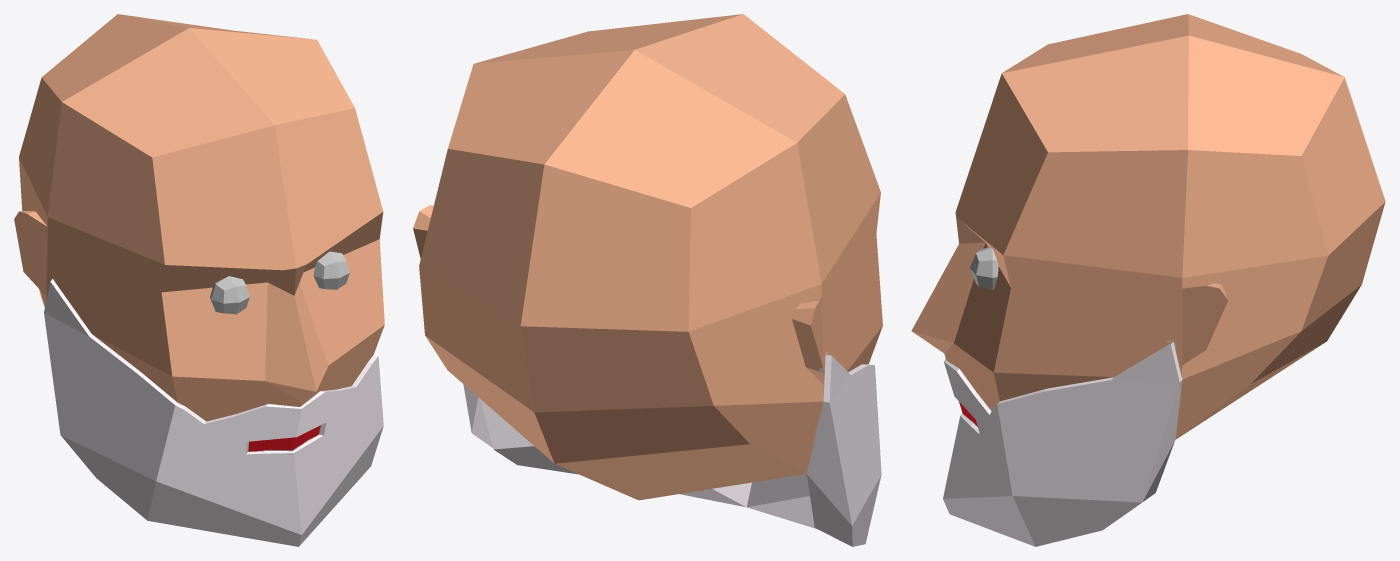
Rendered from characterHead.fbx.
3 views of the same model, side by side, from view 1: azimuth 30°, elevation 25°; view 2: azimuth 150°, elevation 25°; view 3: azimuth 270°, elevation 25° (orthographic). The views are drawn at different scales.
Parts seen in each view (by area): view 1: Cube, Cube.001; view 2: Cube; view 3: Cube, Cube.001.
Part boxes in pixels (bbox=[...]): Cube: bbox=[14, 14, 384, 546]; Cube.001: bbox=[210, 251, 349, 314]; Cube: bbox=[413, 14, 882, 546]; Cube: bbox=[911, 14, 1385, 546]; Cube.001: bbox=[969, 247, 998, 290].
Bounding box in the file's own units: 177 × 236 × 211.
